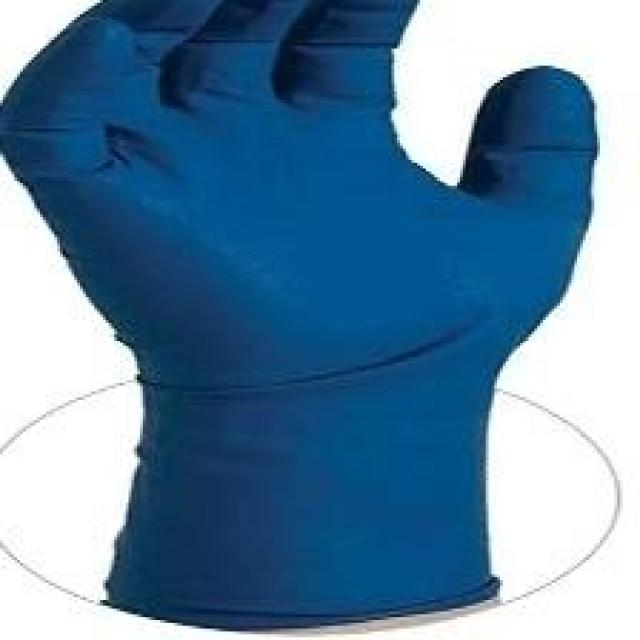Glove: (8, 0, 588, 611)
